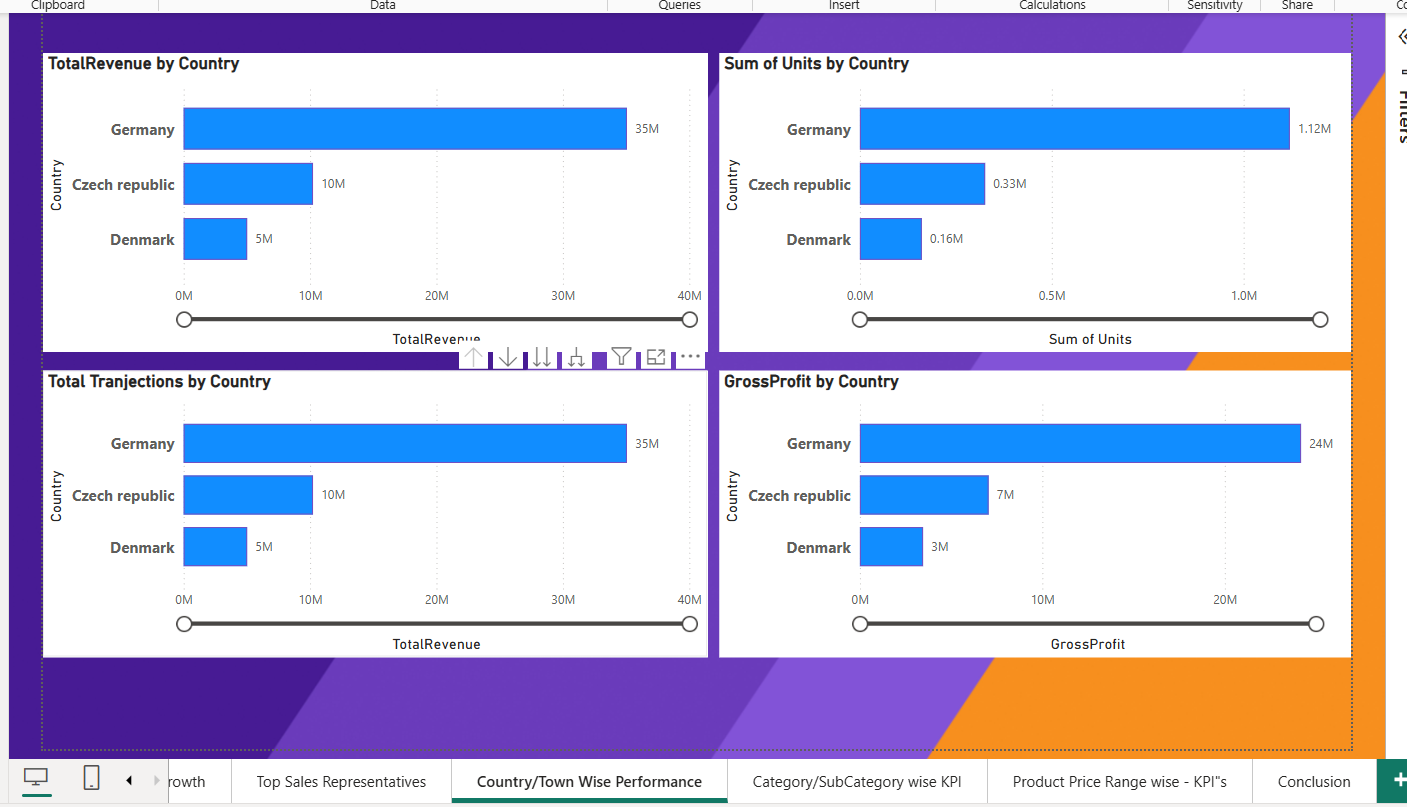

Layout of this report page (visuals, bound fields, positions):
{"tool":"powerbi","page":{"name":"Country/Town Wise Performance","canvas":[1280,720],"ordinal":5},"visuals":[{"type":"clusteredBarChart","fields":{"Y":["FactSales.TotalRevenue"],"Category":["DimGeography.Country"]},"box":[0,38.6,649.5,292.4],"z":0},{"type":"clusteredBarChart","title":"Total Tranjections by Country","fields":{"Category":["DimGeography.Country","DimGeography.Town"],"Y":["FactSales.TotalRevenue"]},"box":[0,349.6,649.5,279.9],"z":1000},{"type":"clusteredBarChart","fields":{"Category":["DimGeography.Country","DimGeography.Town"],"Y":["Sum(FactSales.Units)"]},"box":[661.9,38.6,618.4,292.4],"z":2000},{"type":"clusteredBarChart","fields":{"Y":["FactSales.GrossProfit"],"Category":["DimGeography.Country","DimGeography.Town"]},"box":[661.9,349.6,618.4,279.9],"z":3000}]}

Visuals, with their boxes on the page's 1280x720 design canvas (x1, y1, x2, y2). These are canvas units, not pixel positions in the 1407x807 screenshot, which may show the page scaled, cropped or inside an application window:
clusteredBarChart - FactSales.TotalRevenue x DimGeography.Country: {"x1": 0, "y1": 39, "x2": 650, "y2": 331}
"Total Tranjections by Country" clusteredBarChart: {"x1": 0, "y1": 350, "x2": 650, "y2": 630}
clusteredBarChart - DimGeography.Country x DimGeography.Town: {"x1": 662, "y1": 39, "x2": 1280, "y2": 331}
clusteredBarChart - FactSales.GrossProfit x DimGeography.Country: {"x1": 662, "y1": 350, "x2": 1280, "y2": 630}
